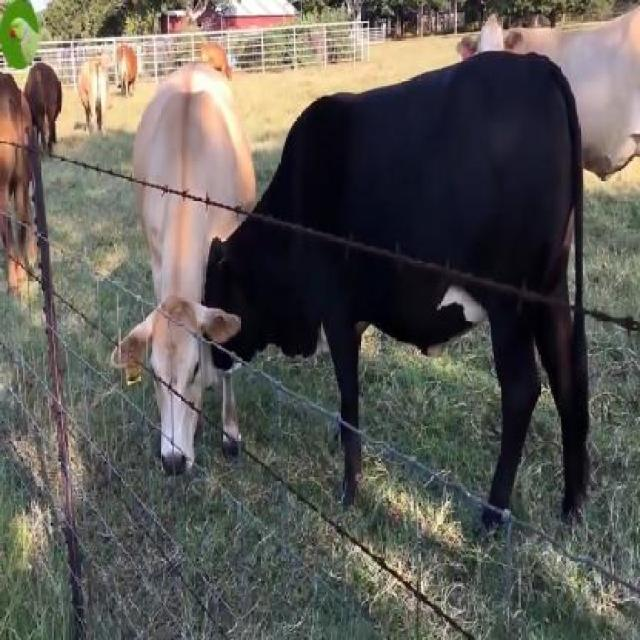Cow: (208, 54, 588, 534), (112, 63, 254, 452)
